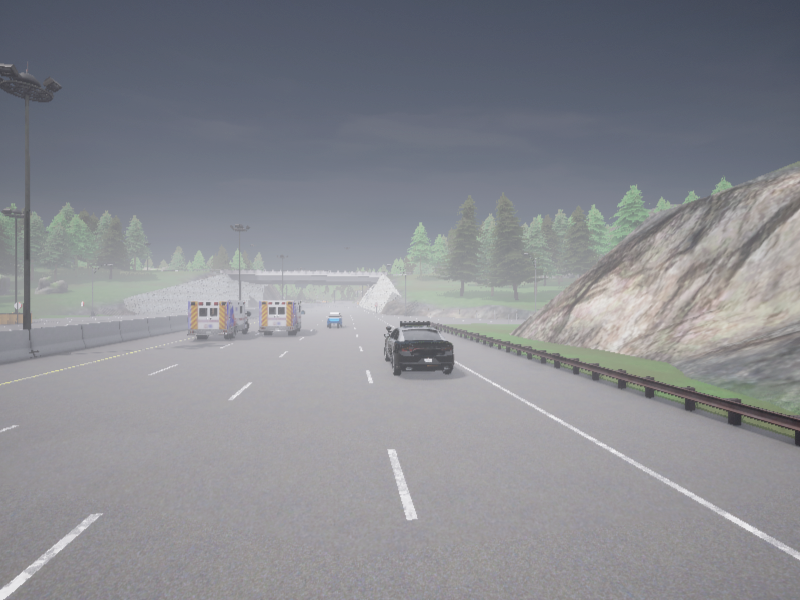vehicle: (385, 322, 452, 363), (190, 302, 250, 332), (261, 302, 304, 329)
